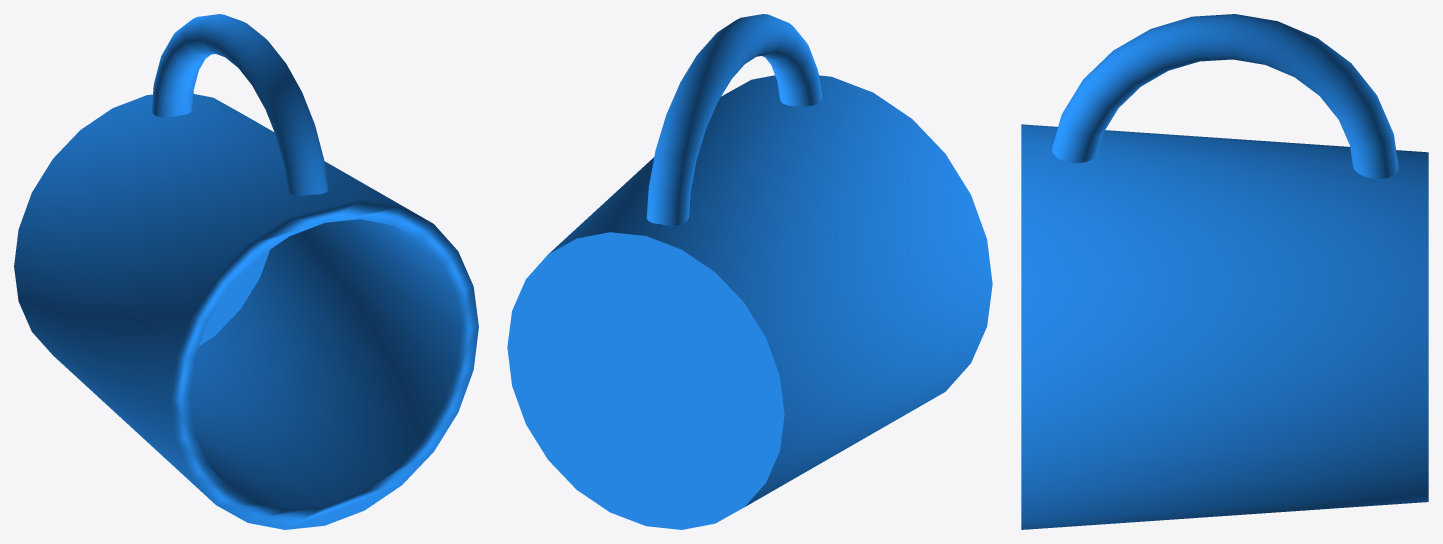
The model's file is model_scale.obj.
The picture shows the model from 3 angles, left to right: view 1: azimuth 30°, elevation 25°; view 2: azimuth 150°, elevation 25°; view 3: azimuth 270°, elevation 25°; orthographic projection. The views are drawn at different scales.
Visible parts, largest first — view 1: mesh1_mesh1-geometry, mesh3_mesh3-geometry; view 2: mesh1_mesh1-geometry, mesh3_mesh3-geometry; view 3: mesh1_mesh1-geometry, mesh3_mesh3-geometry.
Boxes of the visible parts, x1,y1,x2,y2 form: mesh1_mesh1-geometry: (14, 94, 478, 529); mesh3_mesh3-geometry: (151, 14, 328, 195); mesh1_mesh1-geometry: (507, 75, 992, 529); mesh3_mesh3-geometry: (646, 14, 822, 225); mesh1_mesh1-geometry: (1021, 124, 1428, 529); mesh3_mesh3-geometry: (1051, 14, 1398, 178).
Size of the model in its own units: 0.089 by 0.12 by 0.0891.
